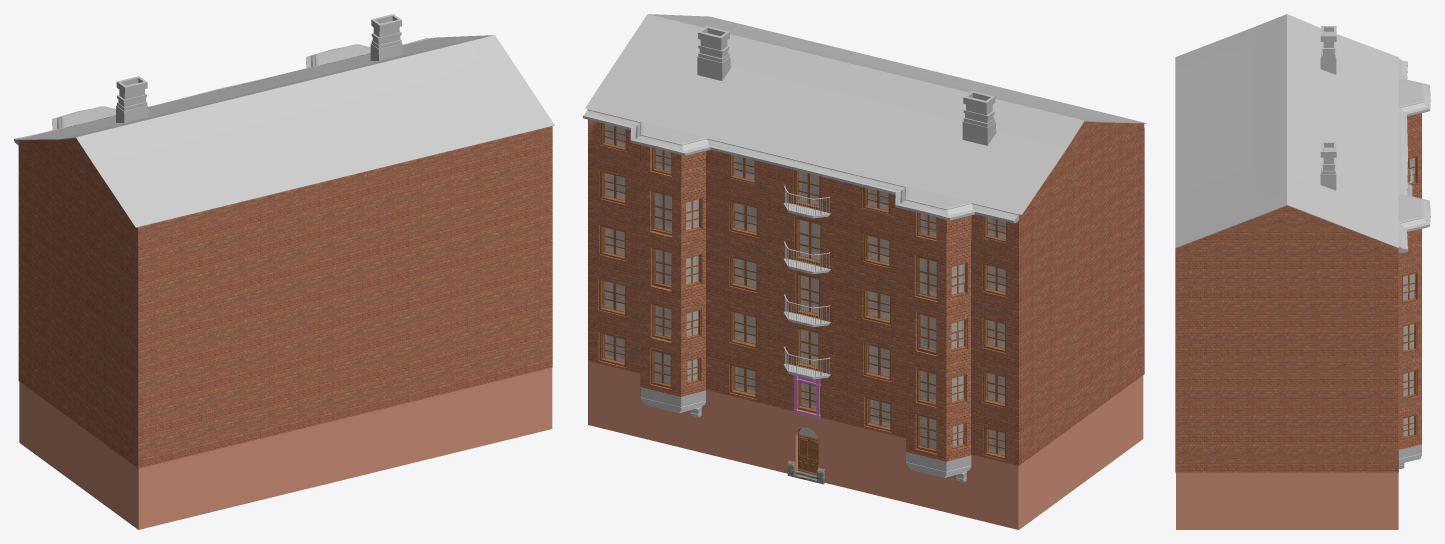
Rendered from Apartment3.fbx.
3 views of the same model, side by side, from view 1: azimuth 30°, elevation 25°; view 2: azimuth 150°, elevation 25°; view 3: azimuth 270°, elevation 25° (orthographic). The views are drawn at different scales.
Parts seen in each view (by area): view 1: Apartment3, FullHouse.139, Apartment3.008, Apartment3.004, Apartment3.006, Apartment3.003, Apartment3.007, Apartment3.005, Apartment3.002, 5th_L_C.007; view 2: Apartment3, FullHouse.139, Apartment3.008, Apartment3.006, Apartment3.004, Apartment3.002, 5th_L_C.007, Cube.006, Apartment3.005, Apartment3.003, Apartment3.007, Apartment3.001 (+29 smaller); view 3: Apartment3, FullHouse.139, Apartment3.002, 5th_L_C.007, FullHouse.216, FullHouse.220, FullHouse.221, Apartment3.001, FullHouse.224.
Boxes of the visible parts, bbox=[...] form: Apartment3: bbox=[18, 53, 552, 468]; FullHouse.139: bbox=[14, 35, 554, 227]; Apartment3.008: bbox=[19, 382, 184, 529]; Apartment3.004: bbox=[370, 395, 438, 472]; Apartment3.006: bbox=[246, 426, 313, 503]; Apartment3.003: bbox=[438, 380, 501, 456]; Apartment3.007: bbox=[184, 442, 246, 518]; Apartment3.005: bbox=[313, 412, 370, 486]; Apartment3.002: bbox=[501, 368, 552, 441]; 5th_L_C.007: bbox=[116, 14, 402, 122]; Apartment3: bbox=[588, 119, 1144, 465]; FullHouse.139: bbox=[583, 14, 1146, 223]; Apartment3.008: bbox=[971, 375, 1143, 529]; Apartment3.006: bbox=[835, 421, 906, 502]; Apartment3.004: bbox=[706, 390, 776, 470]; Apartment3.002: bbox=[588, 361, 641, 437]; 5th_L_C.007: bbox=[697, 26, 996, 145]; Cube.006: bbox=[783, 185, 830, 379]; Apartment3.005: bbox=[776, 407, 835, 485]; Apartment3.003: bbox=[641, 390, 706, 453]; Apartment3.007: bbox=[906, 454, 971, 518]; Apartment3.001: bbox=[640, 387, 971, 481]; Apartment3: bbox=[1175, 113, 1421, 472]; FullHouse.139: bbox=[1175, 14, 1430, 252]; Apartment3.002: bbox=[1176, 472, 1398, 529]; 5th_L_C.007: bbox=[1320, 26, 1336, 190]; FullHouse.216: bbox=[1402, 271, 1417, 303]; FullHouse.220: bbox=[1402, 322, 1416, 353]; FullHouse.221: bbox=[1402, 369, 1416, 399]; Apartment3.001: bbox=[1399, 445, 1421, 468]; FullHouse.224: bbox=[1403, 414, 1416, 439].
Size of the model in its own units: 28.35 by 23.91 by 16.06.
